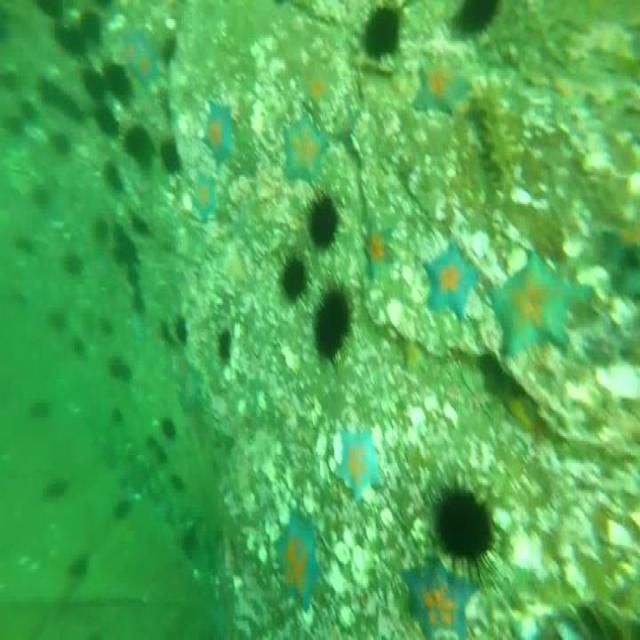echinus: (428, 482, 492, 575), (312, 288, 354, 365), (447, 0, 502, 43), (361, 5, 401, 58), (40, 84, 84, 125), (308, 193, 338, 246), (278, 247, 308, 300), (114, 222, 137, 282), (103, 63, 134, 106), (125, 121, 153, 168), (54, 21, 85, 58), (35, 0, 63, 28), (161, 139, 181, 177), (106, 357, 132, 386), (82, 70, 105, 100), (94, 106, 118, 134), (104, 161, 124, 191), (84, 13, 103, 38), (173, 319, 190, 346), (220, 326, 230, 365), (65, 256, 83, 277), (8, 114, 24, 136), (54, 138, 72, 156), (20, 103, 38, 120), (4, 68, 18, 87), (97, 218, 105, 237)
holothurian: (472, 84, 511, 182)
scallop: (508, 522, 558, 578), (593, 357, 640, 397), (580, 259, 610, 288), (470, 226, 494, 253), (562, 234, 585, 261), (388, 297, 406, 321), (332, 544, 352, 564), (354, 547, 372, 567), (410, 406, 425, 425)
starfish: (496, 248, 582, 364), (400, 550, 479, 640), (274, 514, 324, 608), (427, 243, 482, 318), (415, 50, 472, 118), (334, 425, 383, 501), (283, 114, 325, 185), (203, 100, 239, 164), (364, 224, 396, 283), (124, 35, 158, 82), (191, 176, 220, 213), (308, 66, 336, 102), (181, 373, 202, 408), (130, 316, 146, 343)
